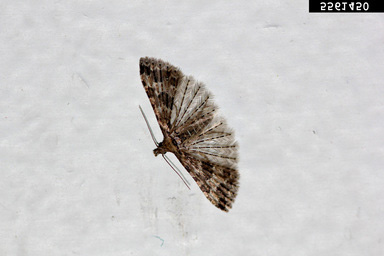Alucitidae: (134, 55, 251, 212)
moth: (136, 57, 253, 214)
